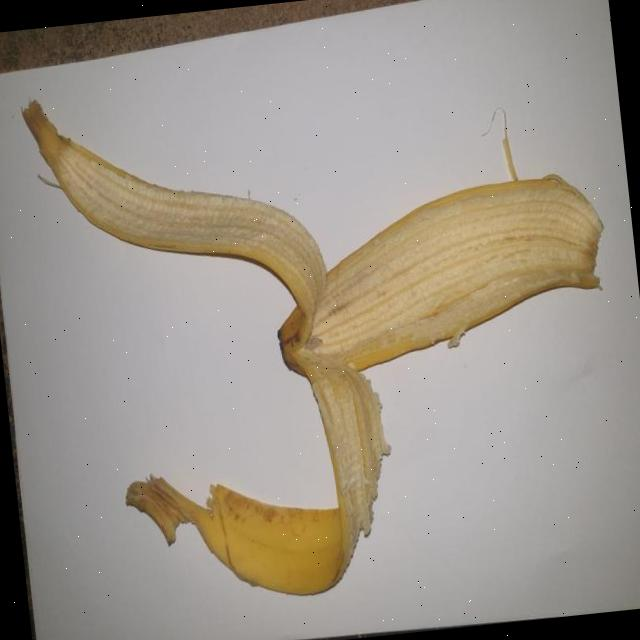banana-peel: (18, 38, 639, 620)
